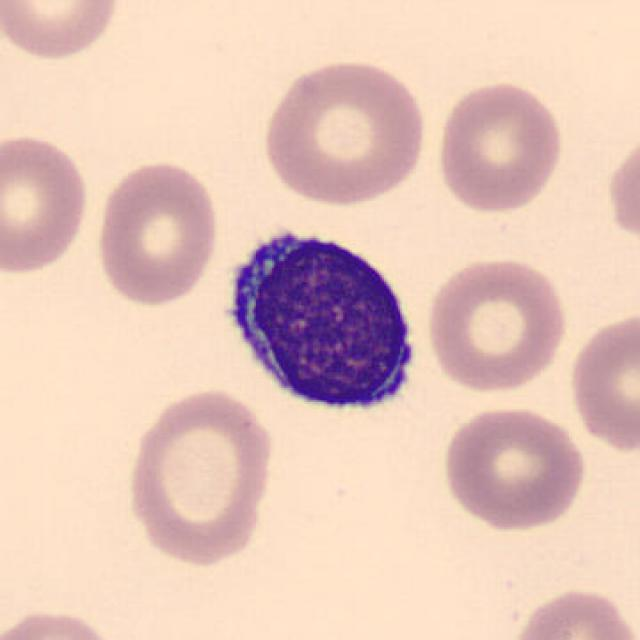Lymphocyte: (210, 219, 426, 425)
RBC: (121, 382, 279, 570), (256, 55, 432, 208), (423, 252, 571, 395), (91, 155, 222, 309), (439, 402, 590, 534), (432, 78, 567, 215), (0, 128, 92, 278), (566, 305, 638, 457), (0, 0, 124, 63), (504, 583, 638, 640), (2, 604, 128, 640), (604, 129, 638, 254)
